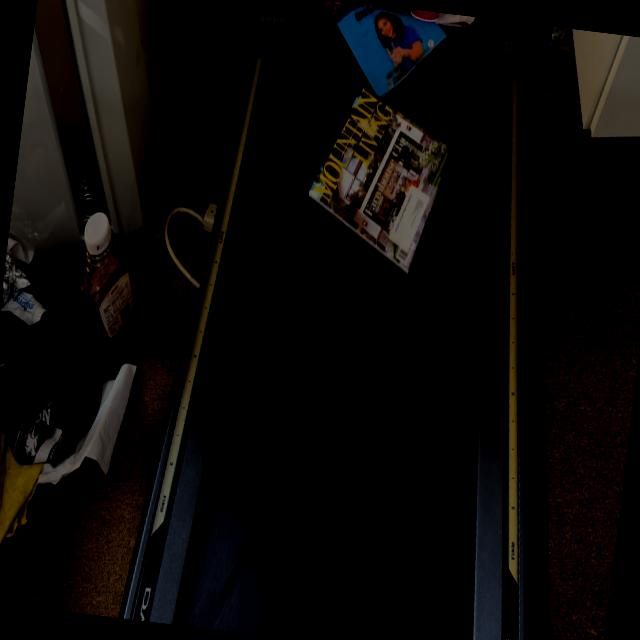Recycle: (296, 86, 466, 283), (311, 0, 453, 99)
